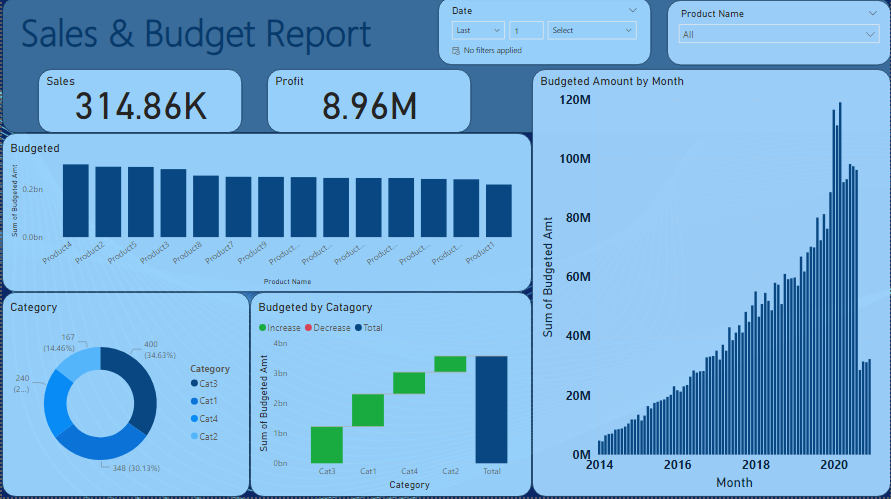

The page's visual inventory and layout, read from the dashboard file:
{"tool":"powerbi","page":{"name":"Page 1","canvas":[1280,720],"ordinal":0},"visuals":[{"type":"textbox","box":[0,0,1280.2,195.8],"z":0},{"type":"columnChart","title":" Budgeted Amount by Month","fields":{"Category":["Budget.Month"],"Y":["Sum(Budget.Budgeted Amt)"]},"box":[763.2,103.7,517,616.3],"z":1000},{"type":"slicer","fields":{"Values":["Product Master.Product Name"]},"box":[957.6,4.3,322.6,93.6],"z":2000},{"type":"donutChart","title":" Category","fields":{"Y":["CountNonNull(Budget.ProductId)"],"Category":["Product Master.Category"]},"box":[0,424.8,357.1,295.2],"z":3000},{"type":"lineClusteredColumnComboChart","title":" Budgeted ","fields":{"Category":["Product Master.Product Name"],"Y":["Sum(Budget.Budgeted Amt)"]},"box":[0,195.8,763.2,229],"z":3001},{"type":"slicer","fields":{"Values":["Sales.Date"]},"box":[627.8,0,306.7,97.9],"z":3002},{"type":"card","title":"Profit","fields":{"Values":["Max(Budget.Budgeted Amt)"]},"box":[381.6,103.7,293.8,92.2],"z":3003},{"type":"card","title":"Sales ","fields":{"Values":["Max(Sales.Sale Amount)"]},"box":[51.8,103.7,293.8,92.2],"z":3004},{"type":"waterfallChart","title":"Budgeted by Catagory","fields":{"Category":["Product Master.Category"],"Y":["Sum(Budget.Budgeted Amt)"]},"box":[357,425,406,295],"z":3005}]}

Visuals, with their boxes in screenshot pixels (x1, y1, x2, y2), scaled from the page's 1280x720 canvas onto the 891x499 screenshot:
textbox: bbox=[0, 0, 890, 136]
" Budgeted Amount by Month" columnChart: bbox=[531, 72, 890, 498]
slicer - Product Master.Product Name: bbox=[667, 3, 890, 68]
" Category" donutChart: bbox=[0, 294, 249, 498]
" Budgeted " lineClusteredColumnComboChart: bbox=[0, 136, 531, 294]
slicer - Sales.Date: bbox=[437, 0, 650, 68]
"Profit" card: bbox=[266, 72, 470, 136]
"Sales " card: bbox=[36, 72, 241, 136]
"Budgeted by Catagory" waterfallChart: bbox=[249, 295, 531, 498]
